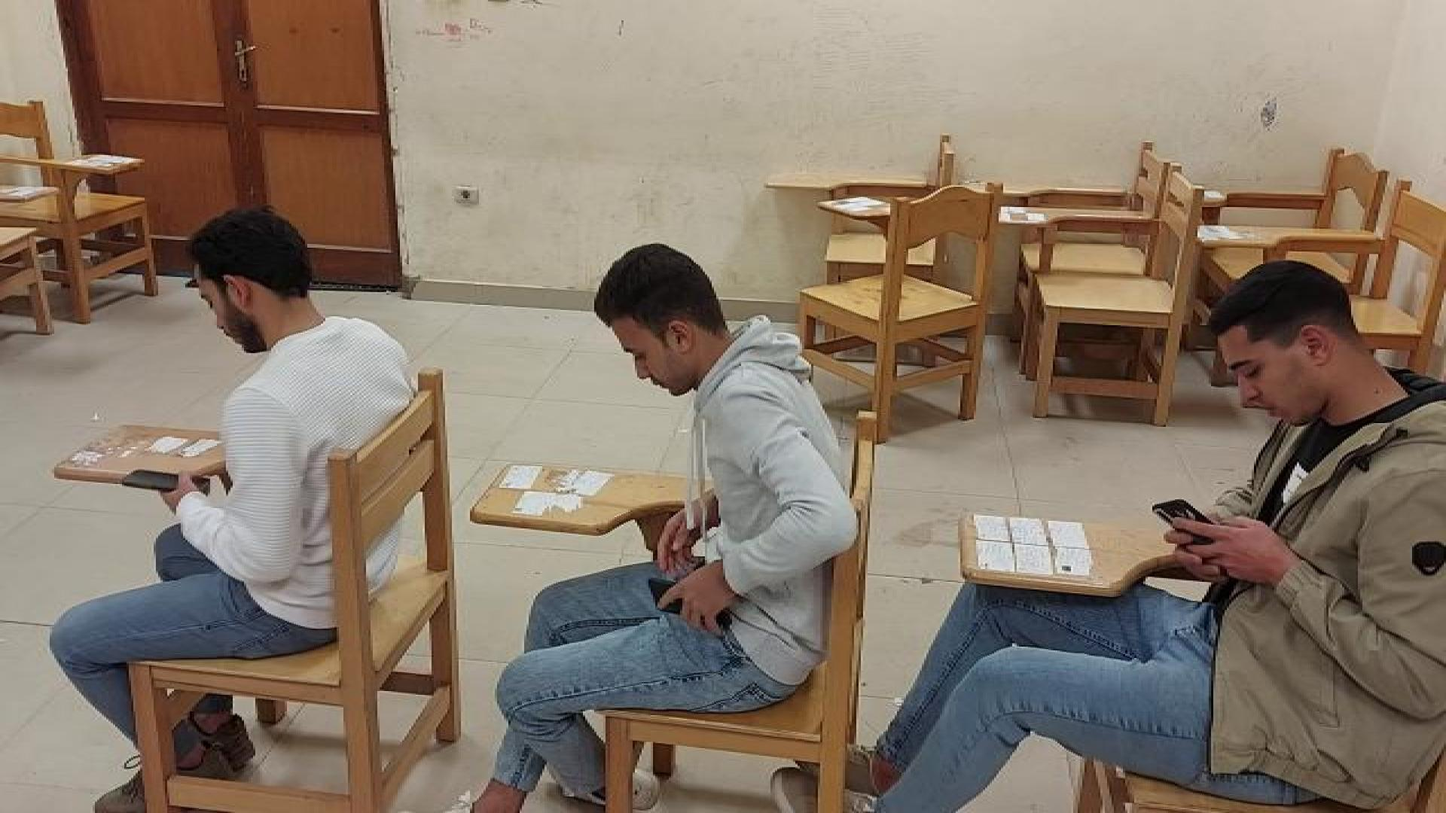phone: (120, 468, 212, 496)
